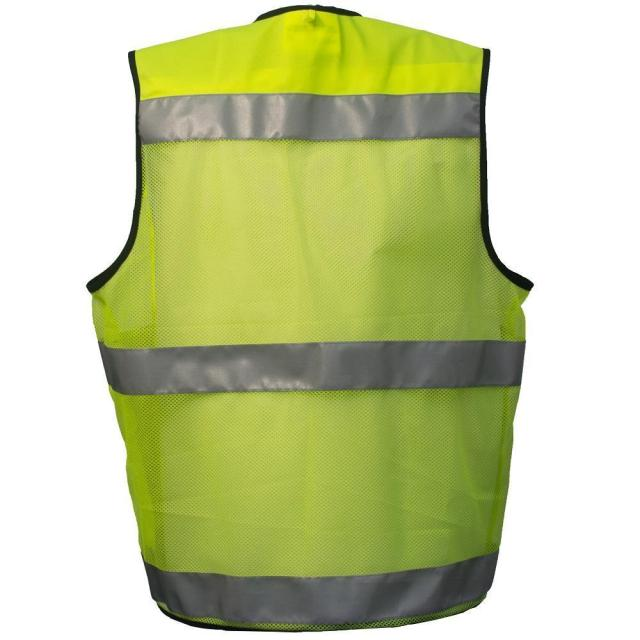Vest: (87, 2, 534, 632)
